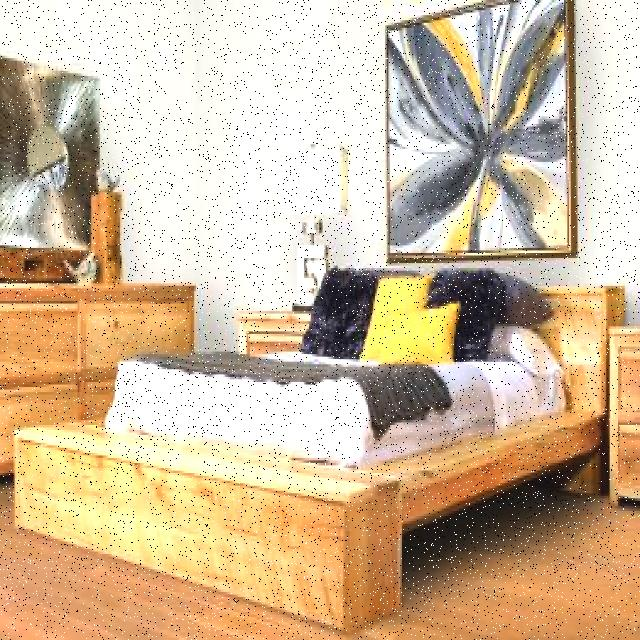bed: (104, 257, 567, 462)
